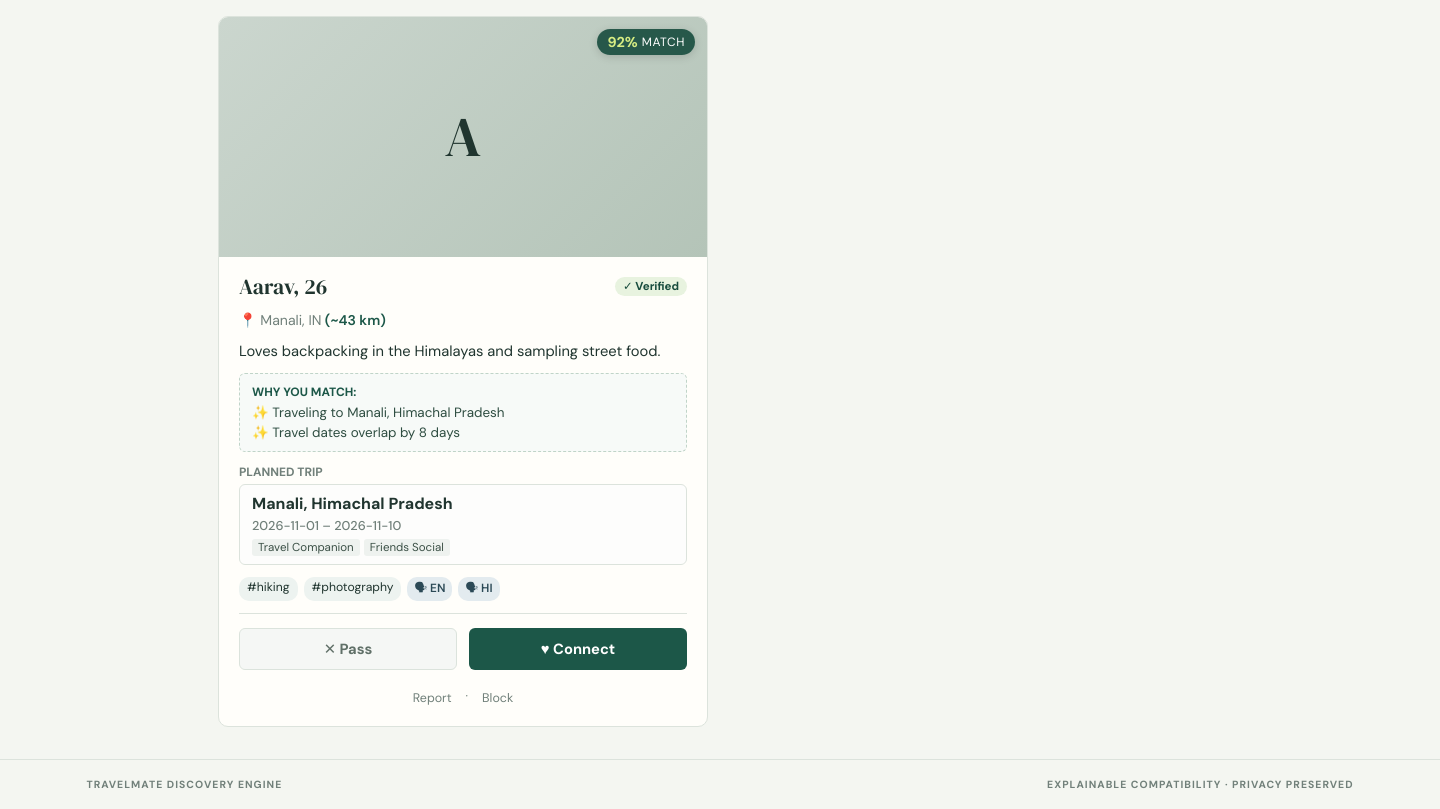
it: TravelMate user app › navigates to Discover page, renders candidates with match score and reasons, and handles connect interaction
(page scrolled)
Check: the heading "Aarav, 26" is shown, box [239,275,327,299]
Check: the text "92%" is shown, box [608,33,638,51]
Note: Click Connect (like)
Step 1. Click the button "♥ Connect" → [578, 649], box [469,628,687,670]
(page scrolled)
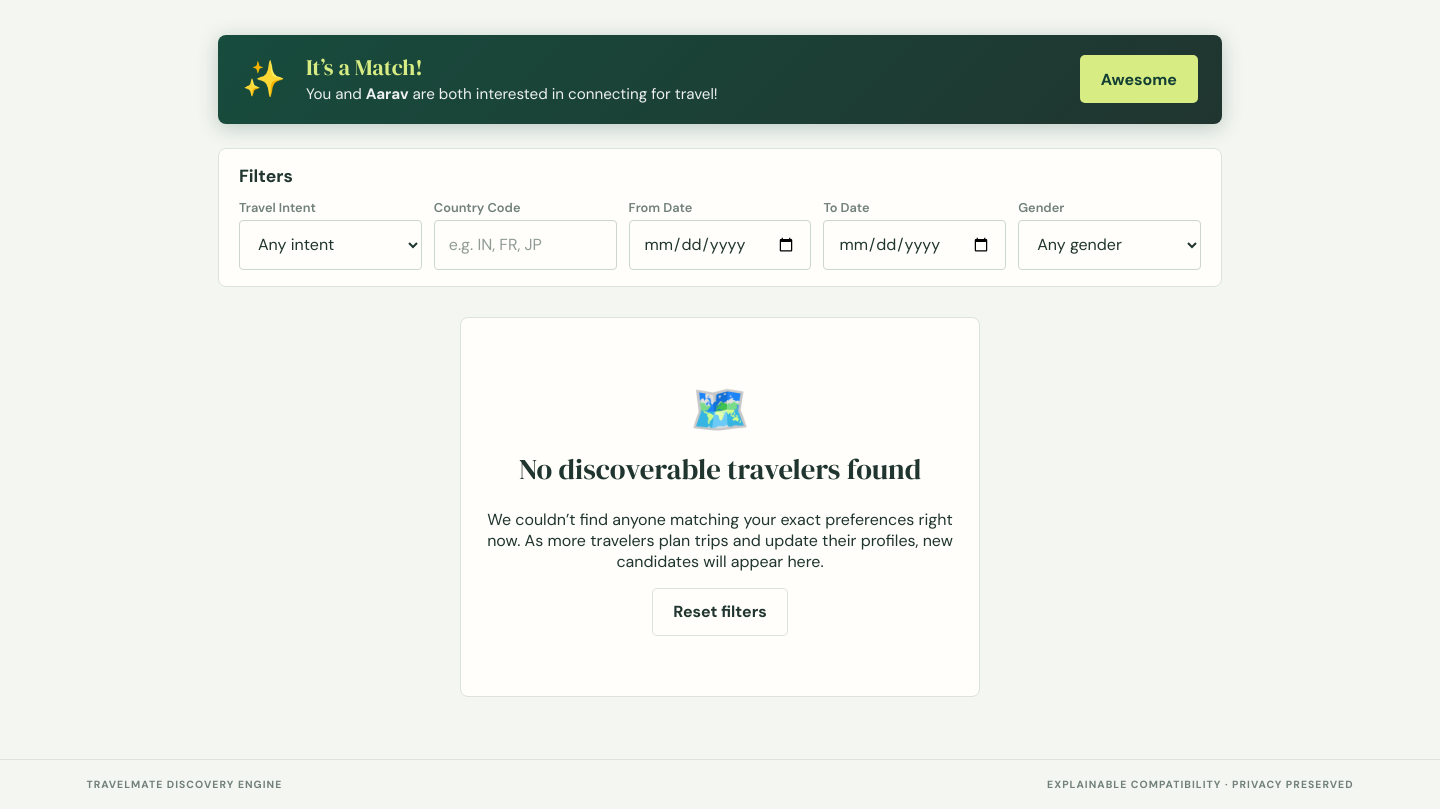
Check: the heading "It’s a Match!" is shown, box [306,52,423,83]
Check: the text "You and Aarav are both interested in connecting for travel!" is shown, box [306,84,718,104]
